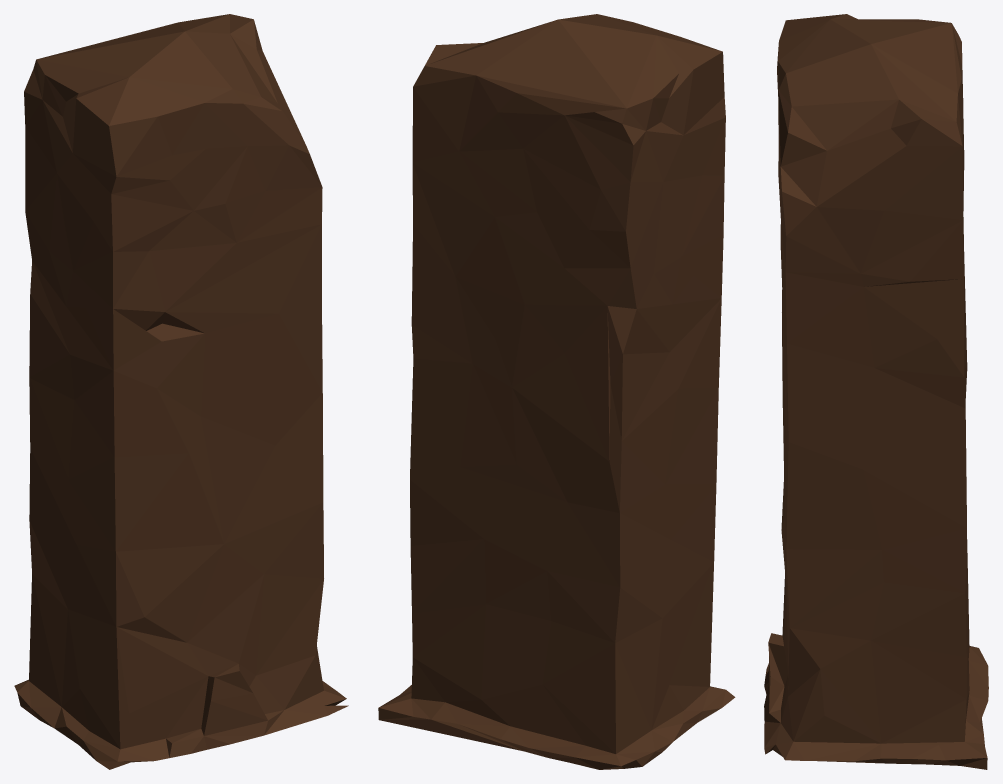
File: stela-copan.lod2.glb
3 views of the same model, side by side, from view 1: azimuth 30°, elevation 25°; view 2: azimuth 150°, elevation 25°; view 3: azimuth 270°, elevation 25° (orthographic). The views are drawn at different scales.
Parts seen in each view (by area): view 1: Object_2; view 2: Object_2; view 3: Object_2.
Boxes of the visible parts, x1,y1,x2,y2 form: Object_2: [14, 14, 348, 769]; Object_2: [378, 14, 735, 769]; Object_2: [764, 14, 988, 769].
Size of the model in its own units: 1.51 by 4 by 1.22.
